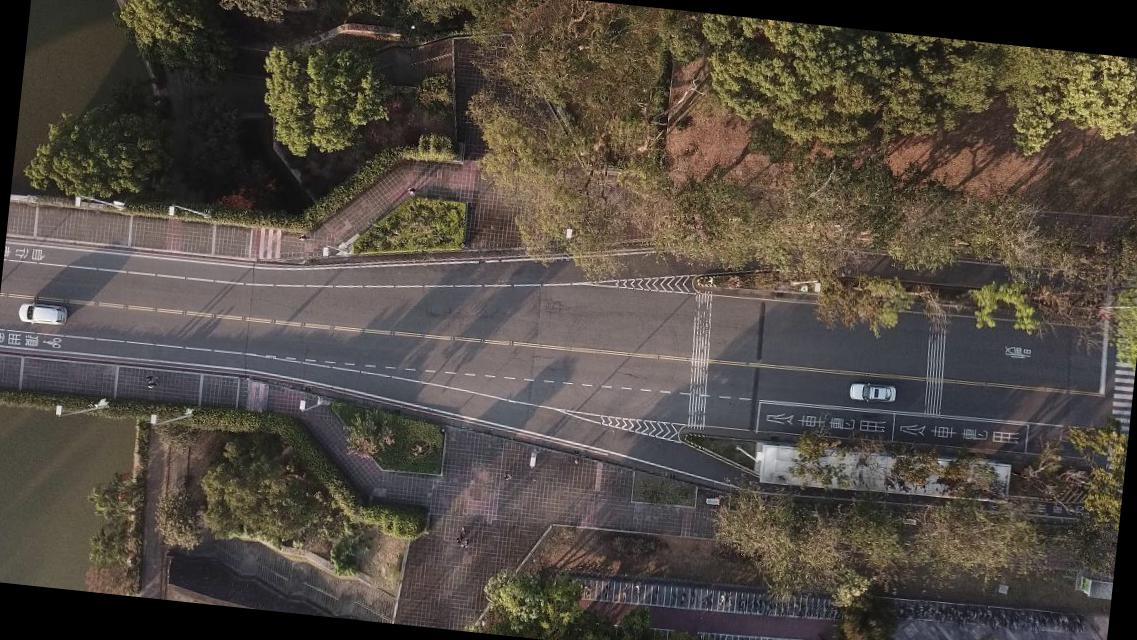vehicle: (17, 300, 68, 326), (849, 379, 898, 404)
